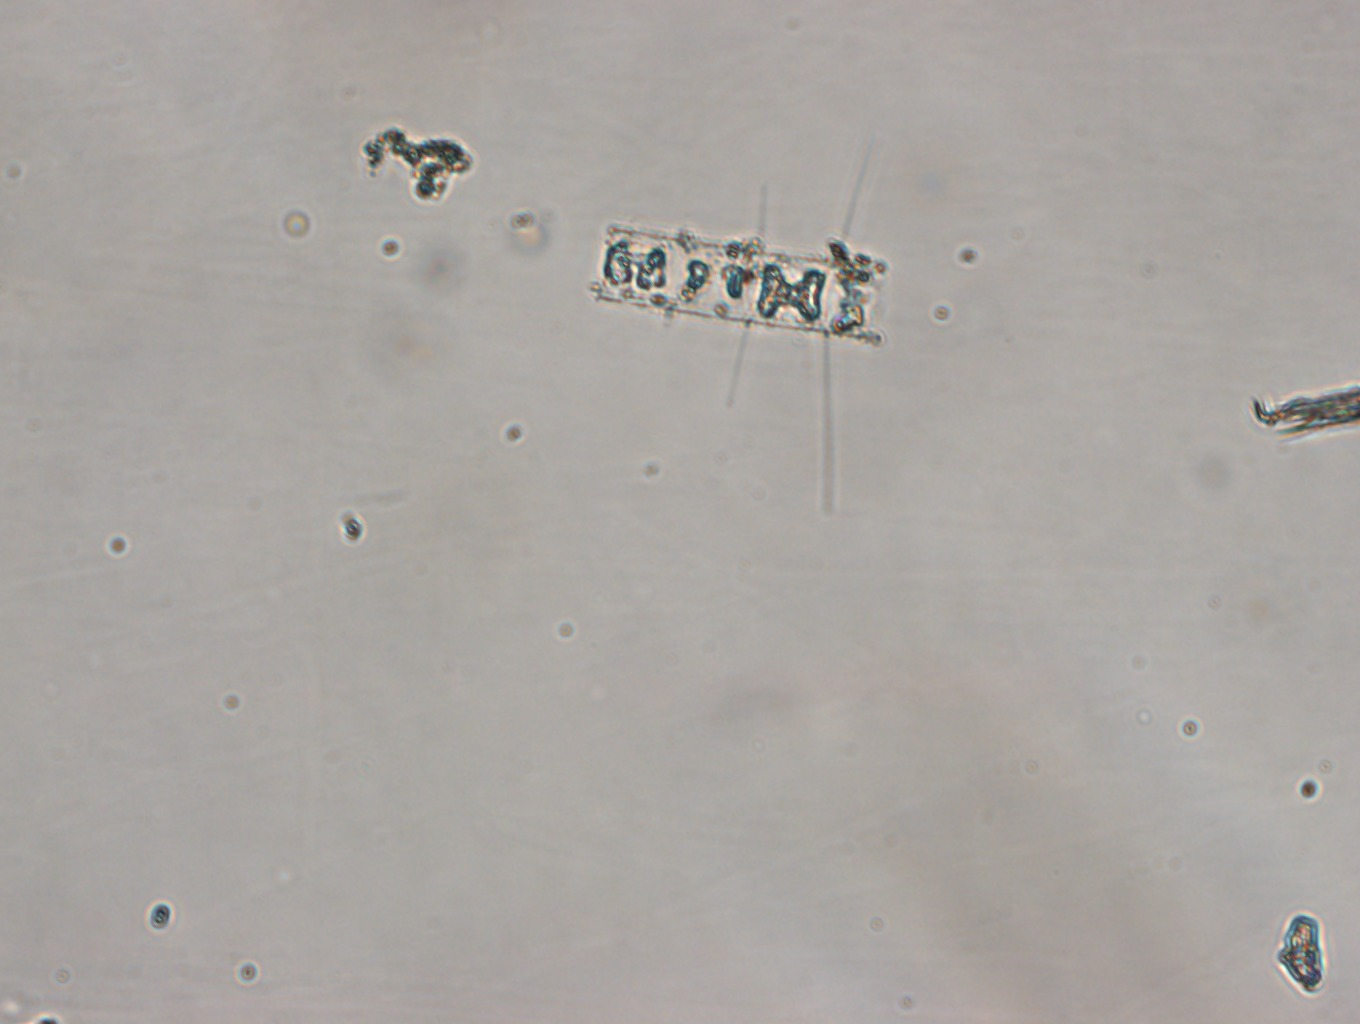chaetoceros: (581, 155, 882, 517)
